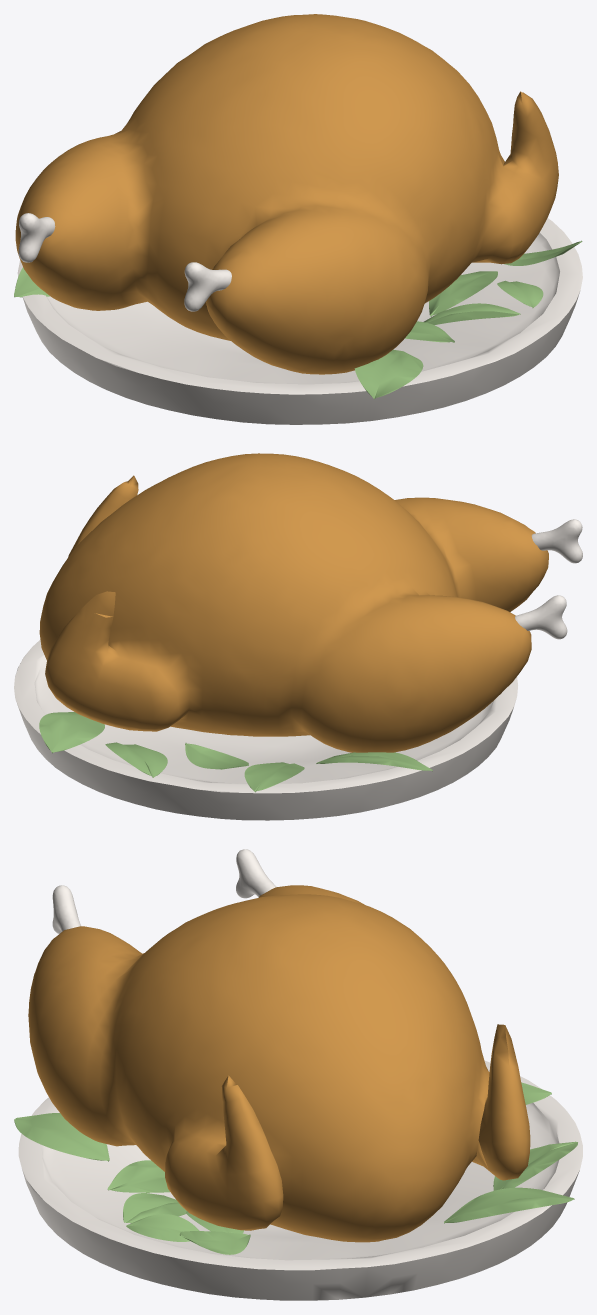
Rendered from Turkey.dae.
The picture shows the model from 3 angles, top to bottom: view 1: azimuth 30°, elevation 25°; view 2: azimuth 150°, elevation 25°; view 3: azimuth 270°, elevation 25°; orthographic projection. The views are drawn at different scales.
Visible parts, largest first — view 1: Turkey_body; view 2: Turkey_body; view 3: Turkey_body.
Part boxes in pixels (left/top/right/bottom): Turkey_body: left=14, top=14, right=582, bottom=424; Turkey_body: left=14, top=453, right=582, bottom=820; Turkey_body: left=14, top=849, right=582, bottom=1300.
Bounding box in the file's own units: 238 × 212 × 119.
